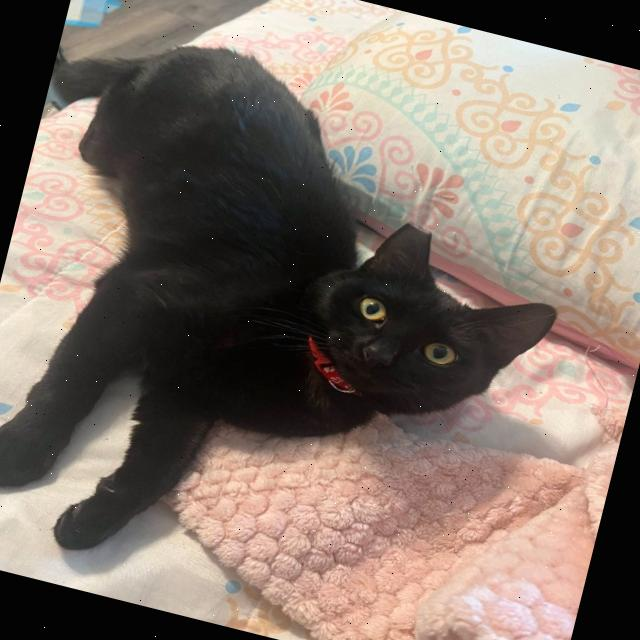bombay_cat: (259, 188, 581, 458)
